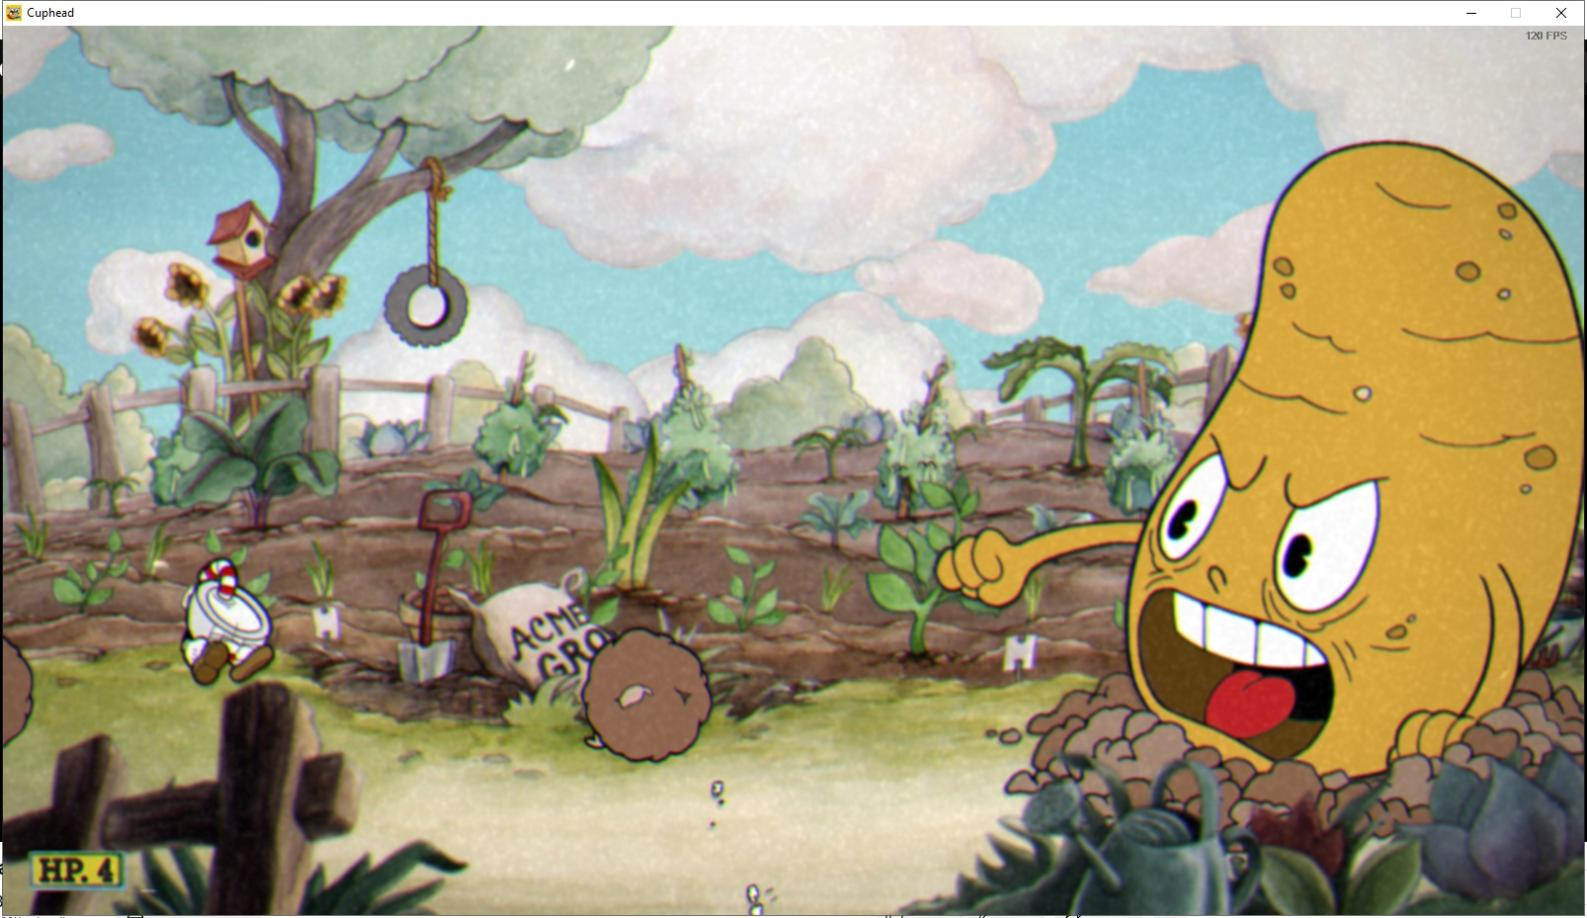dirt: (575, 623, 722, 764), (0, 643, 43, 744)
hp4: (92, 850, 124, 894)
player: (170, 556, 282, 694)
potato_boss: (1038, 132, 1587, 748)
